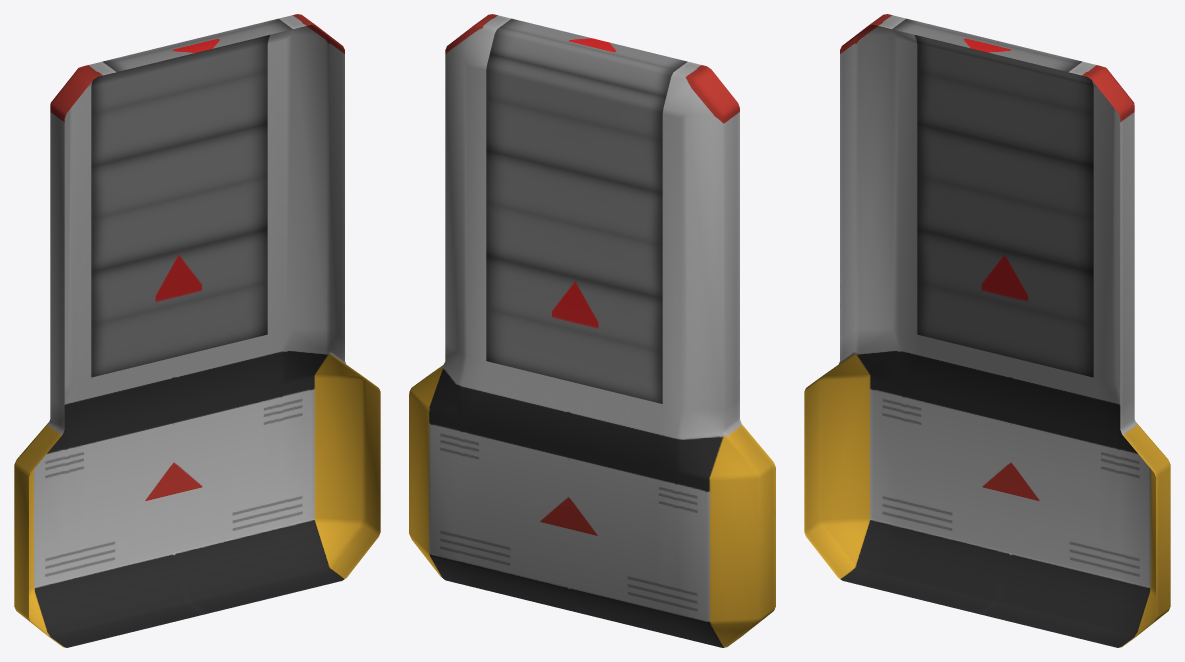
File: SpeedPad.fbx
3 views of the same model, side by side, from view 1: azimuth 30°, elevation 25°; view 2: azimuth 150°, elevation 25°; view 3: azimuth 330°, elevation 25° (orthographic).
Parts seen in each view (by area): view 1: Cube; view 2: Cube; view 3: Cube.
Part boxes in pixels (bbox=[...]): Cube: bbox=[14, 14, 380, 647]; Cube: bbox=[409, 14, 775, 647]; Cube: bbox=[804, 14, 1170, 647].
Size of the model in its own units: 2.51 by 3.84 by 0.3824.
